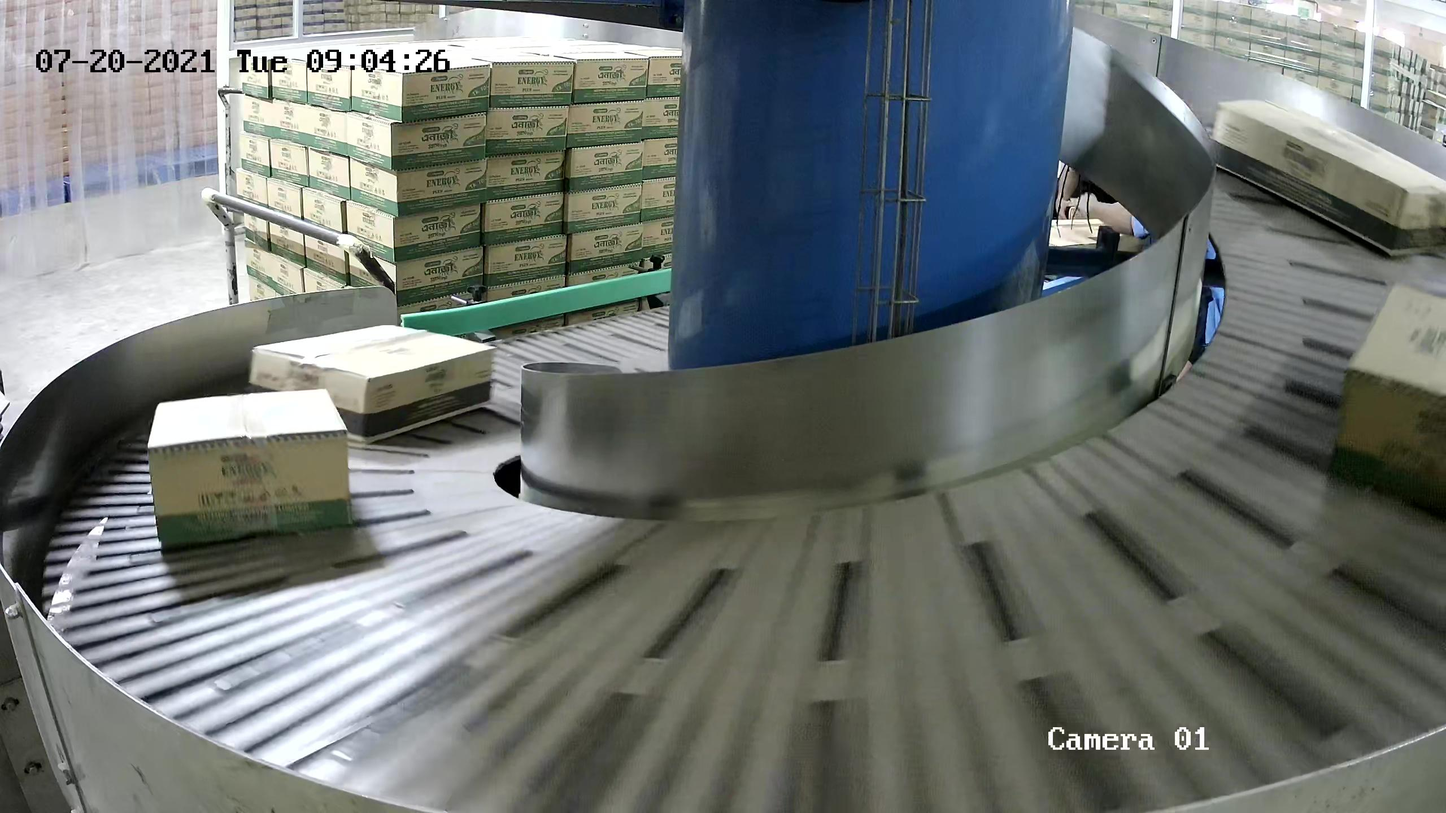Box: (1209, 98, 1446, 259), (145, 385, 355, 550), (247, 322, 497, 444), (1332, 280, 1446, 520)
